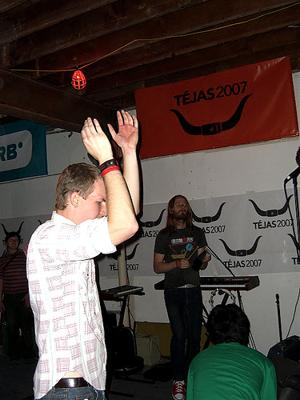person: (25, 104, 145, 400)
